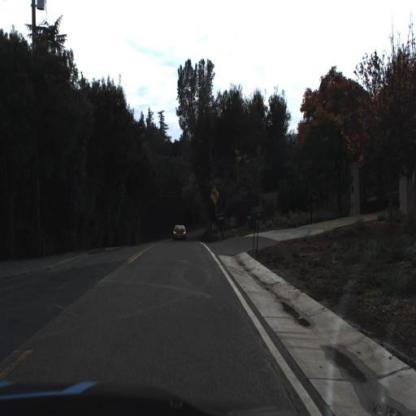car: (164, 218, 192, 245)
